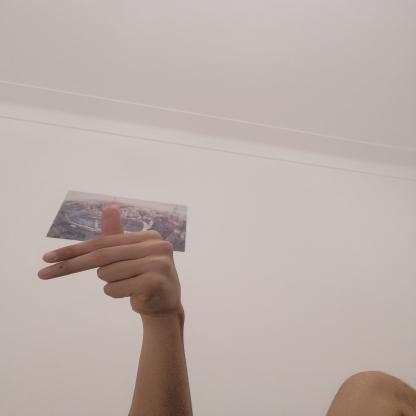GHAYN: (24, 196, 189, 322)
